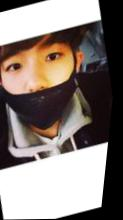WRONG: (1, 34, 92, 138)
